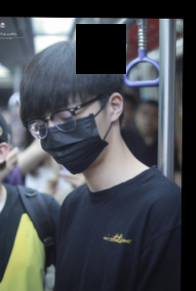with_mask: (32, 94, 112, 175)
